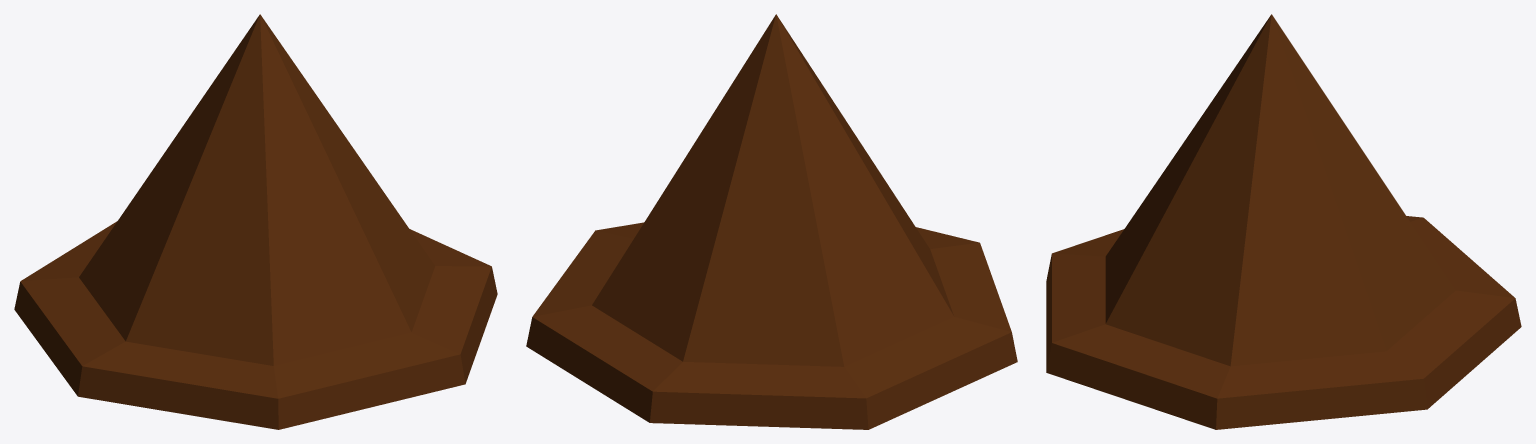
File: hat.fbx
3 renders of one model, left to right at view 1: azimuth 30°, elevation 25°; view 2: azimuth 150°, elevation 25°; view 3: azimuth 270°, elevation 25°, orthographic.
Parts seen in each view (by area): view 1: hat; view 2: hat; view 3: hat.
Boxes of the visible parts, x1,y1,x2,y2 form: hat: (14, 14, 497, 429); hat: (526, 14, 1017, 429); hat: (1046, 14, 1521, 429).
Bounding box in the file's own units: 57.94 × 41.05 × 56.49.
